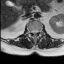CCS_normal: (33, 27, 35, 36)
LFS_stenosis: (38, 28, 40, 34)
LLS_normal: (35, 27, 38, 35)
RFS_normal: (29, 27, 31, 34)
RLS_normal: (31, 27, 33, 35)
